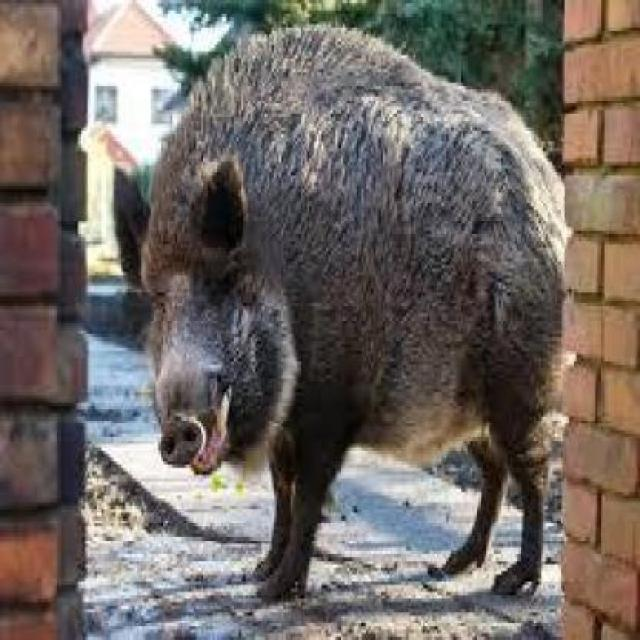wildboar: (108, 21, 570, 612)
